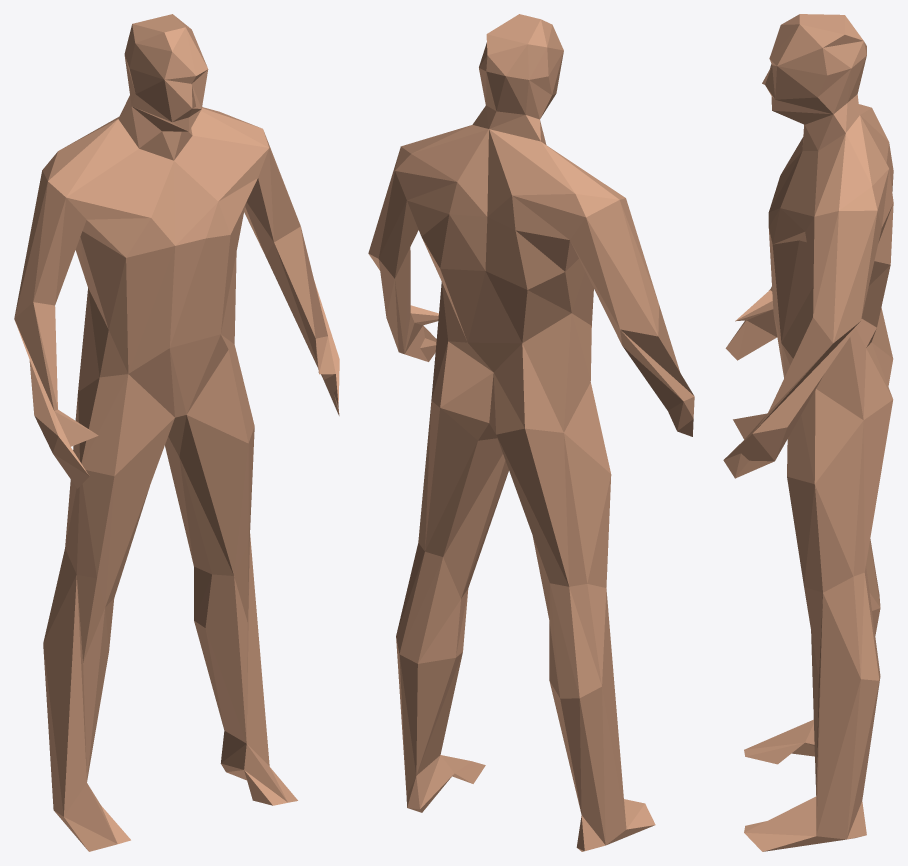
The model's file is PersonA.FBX.
3 renders of one model, left to right at view 1: azimuth 30°, elevation 25°; view 2: azimuth 150°, elevation 25°; view 3: azimuth 270°, elevation 25°, orthographic.
Parts seen in each view (by area): view 1: LowDetail_Person; view 2: LowDetail_Person; view 3: LowDetail_Person.
Boxes of the visible parts, <box> form: LowDetail_Person: <box>14,14,339,851</box>; LowDetail_Person: <box>368,14,694,851</box>; LowDetail_Person: <box>723,14,893,851</box>.
Bounding box in the file's own units: 26.81 × 68.37 × 13.5.
